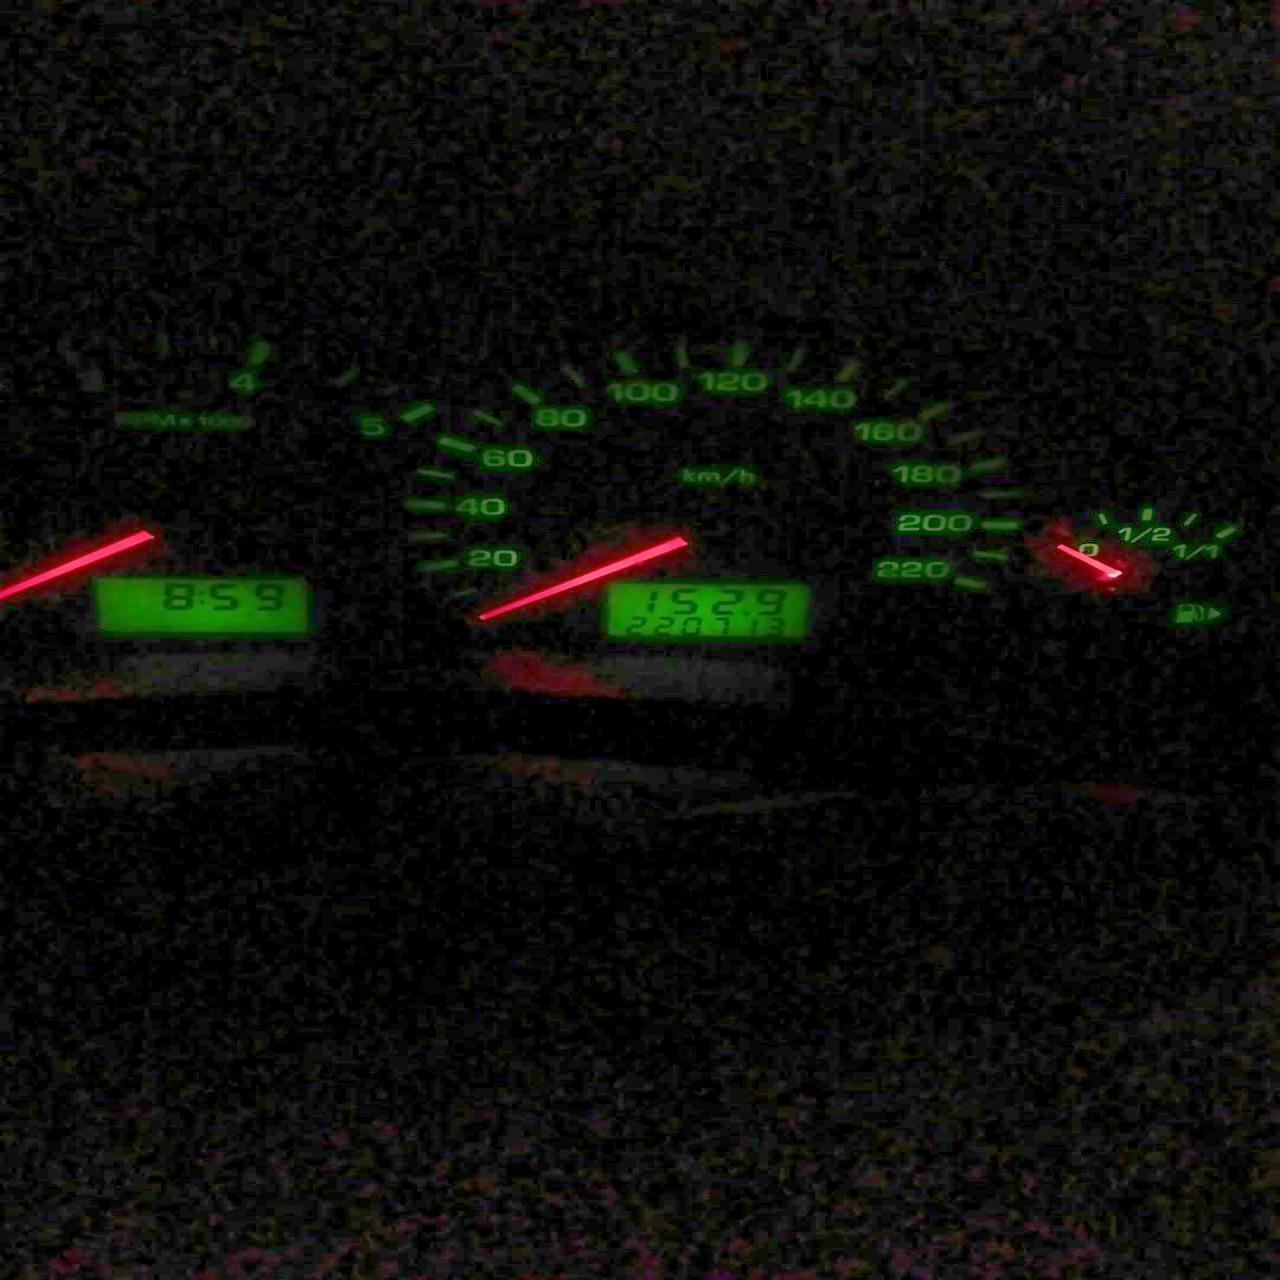-: (741, 611, 750, 615)
0: (679, 617, 702, 635)
1: (645, 591, 659, 613), (748, 618, 758, 635)
2: (710, 587, 744, 614), (625, 614, 646, 634), (652, 617, 674, 635)
3: (763, 617, 787, 636)
5: (668, 586, 700, 614)
7: (712, 615, 730, 635)
9: (754, 586, 787, 615)
odometer: (599, 579, 815, 640)
